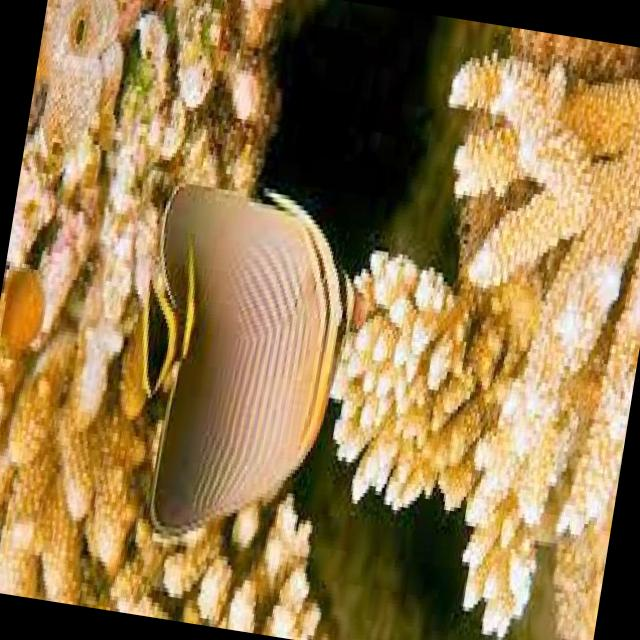ButterflyFish: (107, 148, 371, 556)
